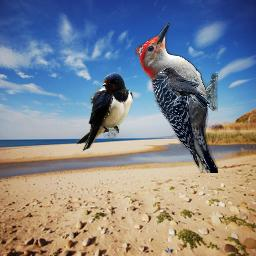Crow: (158, 67, 210, 108)
Swallow: (76, 72, 133, 153)
Woodpecker: (135, 23, 218, 173)
